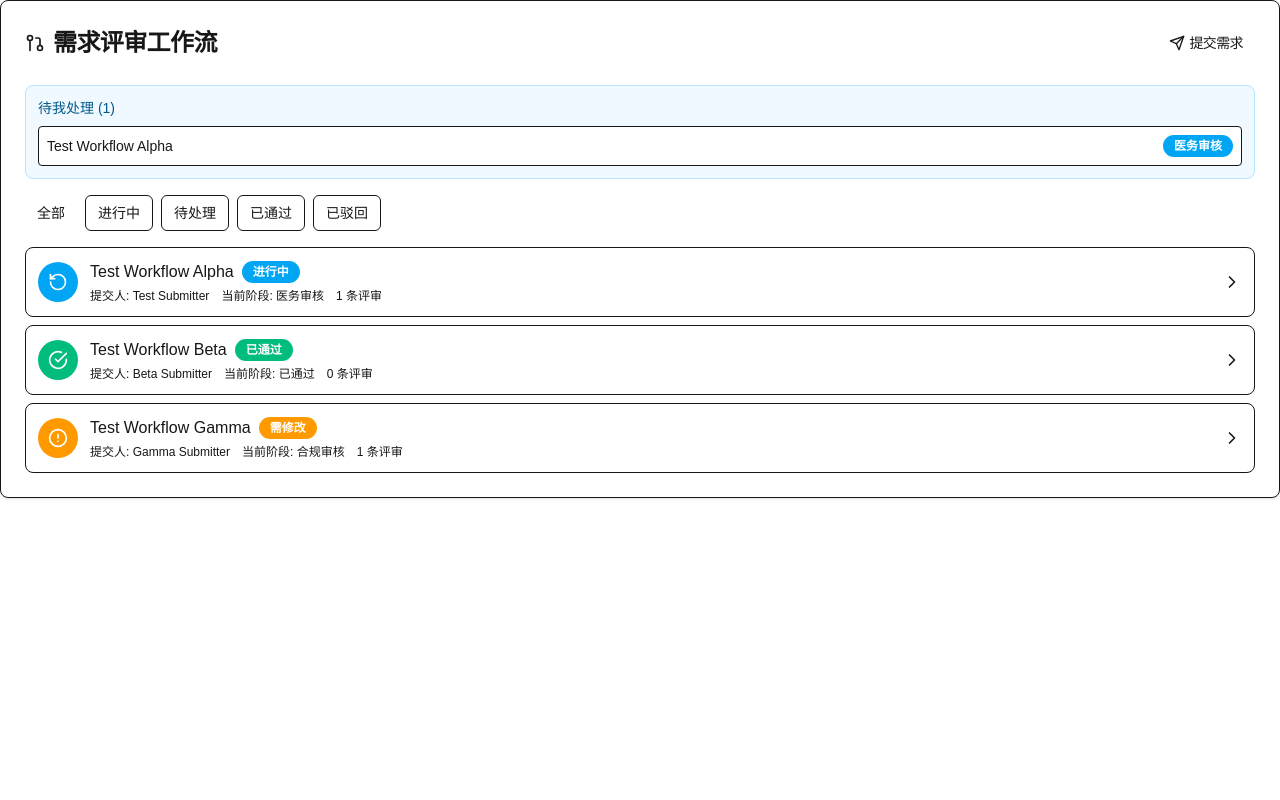
Test case: ReviewWorkflowList › does not show action buttons for non-approver
The width and height of the screenshot is (1280, 800).
Click the button that starts with "Test Workflow Gamma" at {"x": 58, "y": 438}, box [25,403,1255,473]
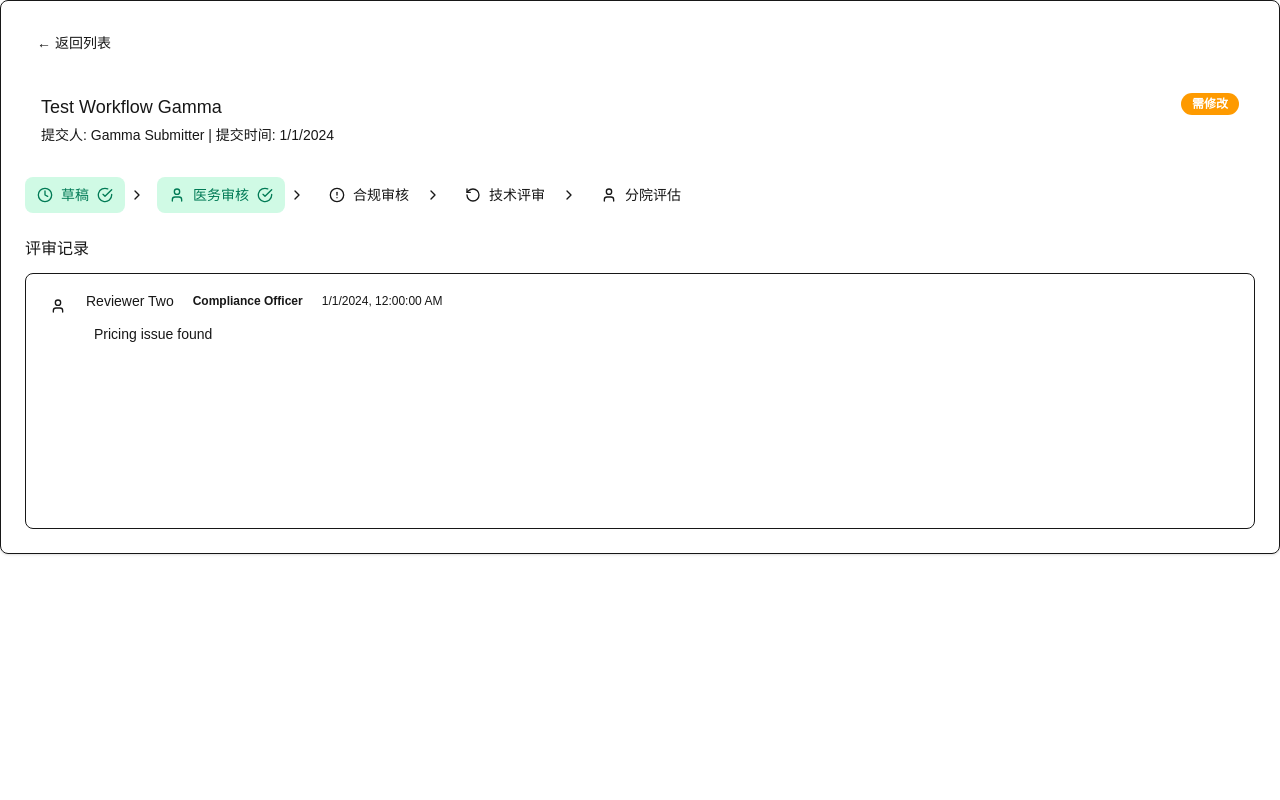
Check: the button "通过" is gone
Check: the button "驳回" is gone
